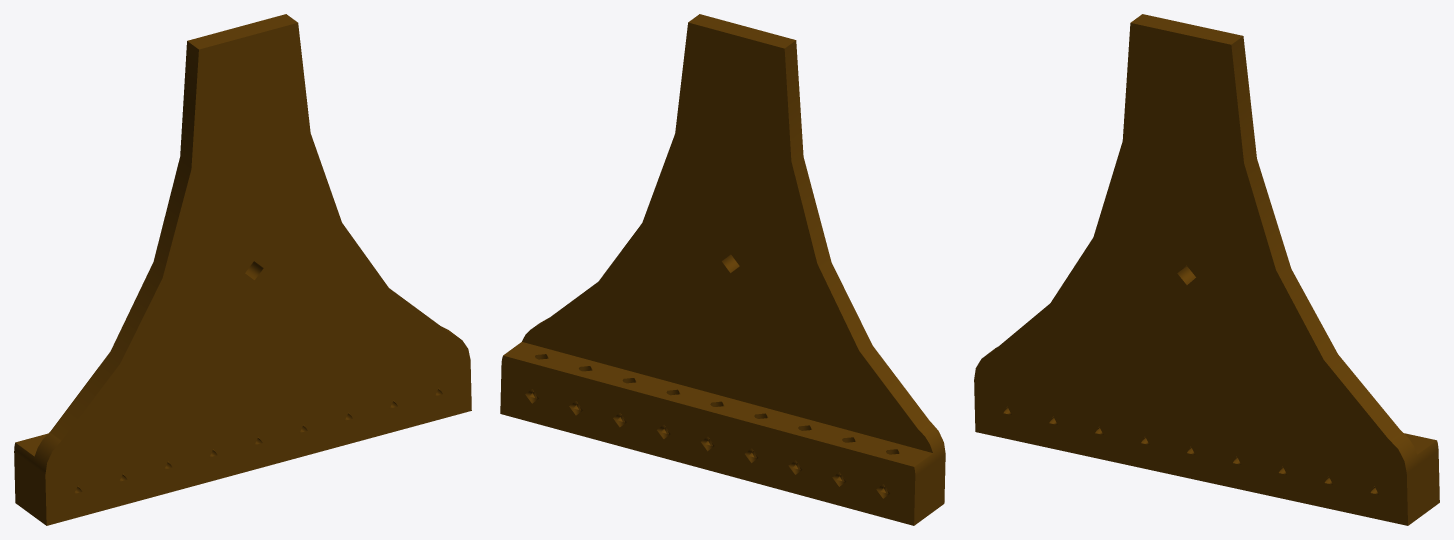
Rendered from Haut balancier.obj.
The picture shows the model from 3 angles, left to right: view 1: azimuth 30°, elevation 25°; view 2: azimuth 150°, elevation 25°; view 3: azimuth 330°, elevation 25°; orthographic projection. The views are drawn at different scales.
Visible parts, largest first — view 1: Face_9, Face_3, Face_5, Face_2, Face_4; view 2: Face_12, Face_10, Face_11, Face_3, Face_5, Face_2, Face_4; view 3: Face_9, Face_1, Face_7, Face_2, Face_8.
Boxes of the visible parts, x1,y1,x2,y2 form: Face_9: [45, 23, 471, 525]; Face_3: [50, 41, 198, 440]; Face_5: [14, 452, 46, 525]; Face_2: [187, 14, 297, 49]; Face_4: [14, 432, 60, 474]; Face_12: [522, 22, 932, 452]; Face_10: [500, 355, 915, 525]; Face_11: [503, 342, 932, 466]; Face_3: [784, 40, 929, 428]; Face_5: [914, 454, 945, 525]; Face_2: [688, 14, 795, 48]; Face_4: [914, 421, 945, 475]; Face_9: [974, 23, 1407, 525]; Face_1: [1231, 36, 1400, 438]; Face_7: [1407, 450, 1439, 525]; Face_2: [1130, 14, 1242, 44]; Face_8: [1389, 431, 1438, 473].
Size of the model in its own units: 0.0662 by 0.0655 by 0.0084.
